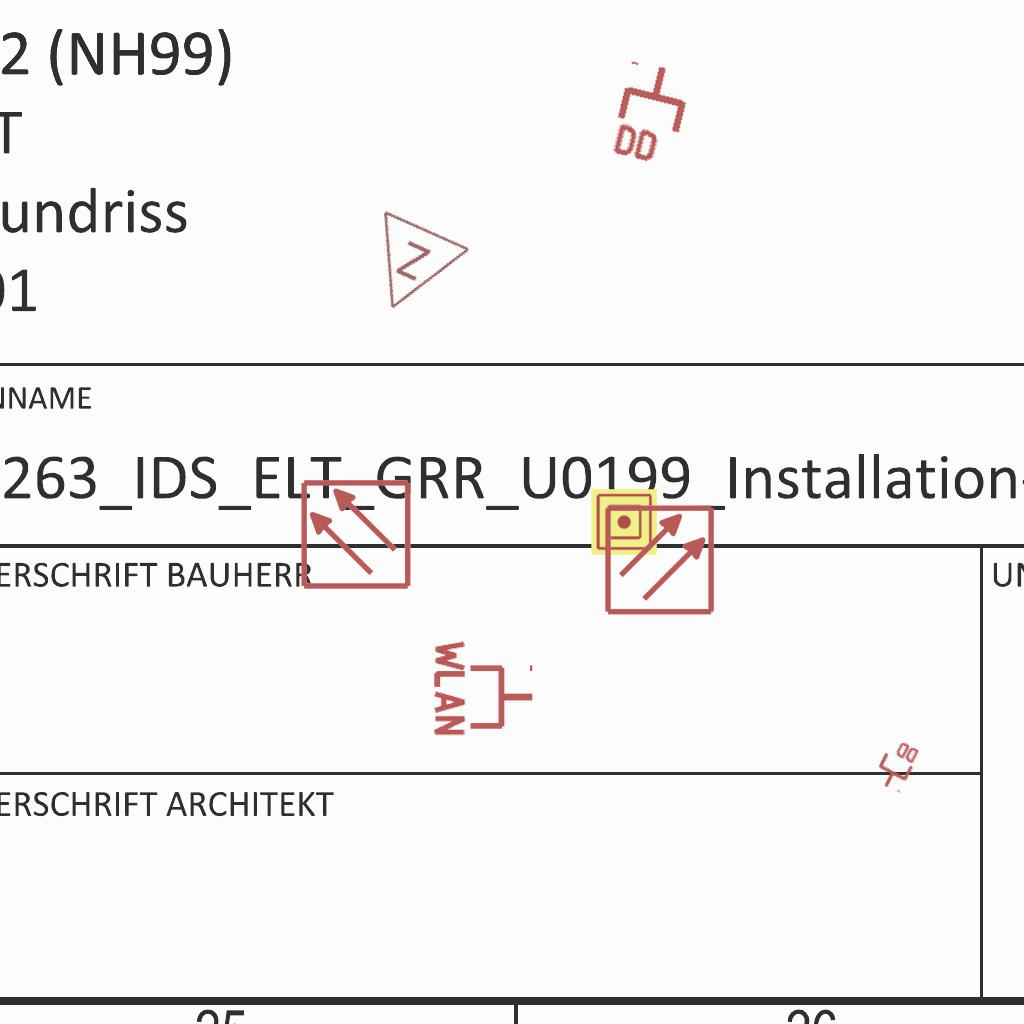Datenanschluss_zweifach: (606, 56, 699, 173), (869, 734, 923, 795)
NAM-Nichtautomatischer_Melder: (591, 489, 657, 555)
RMO_Rauchmelder_optischer: (299, 478, 412, 591), (603, 503, 716, 616)
WLAN: (432, 636, 537, 740)
Zimmersignalleuchte: (345, 203, 477, 335)
